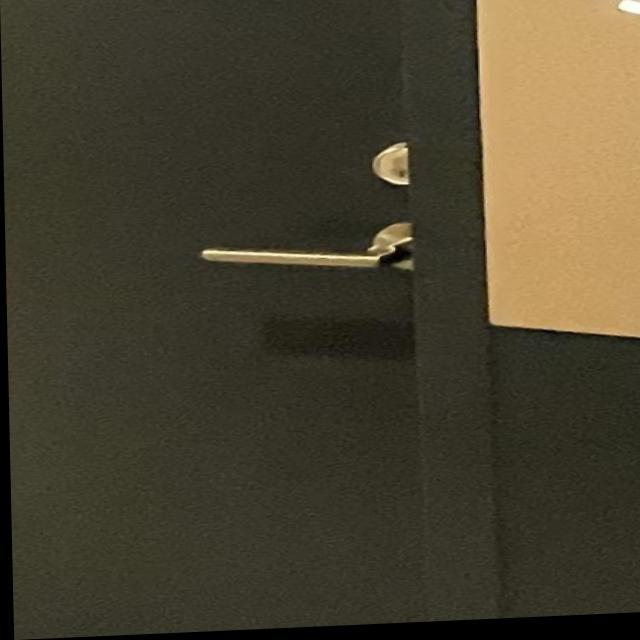door_handle: (183, 216, 437, 305)
